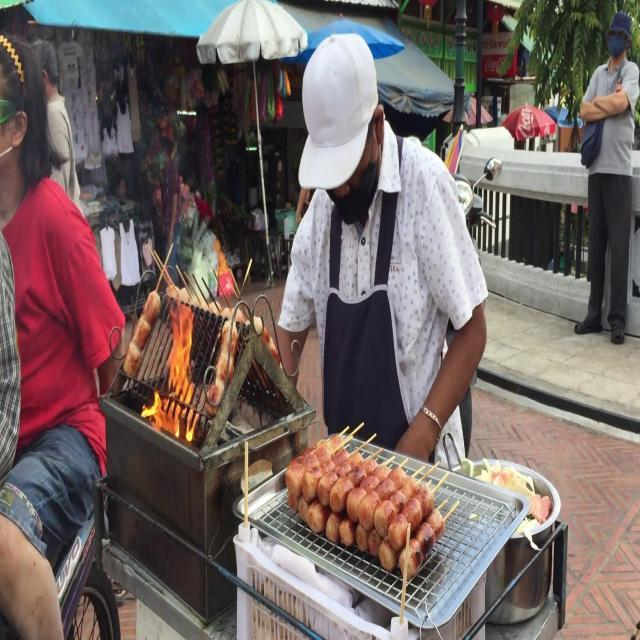Fire: (138, 300, 200, 432)
